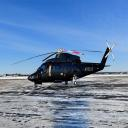helicopter: (11, 42, 117, 88)
